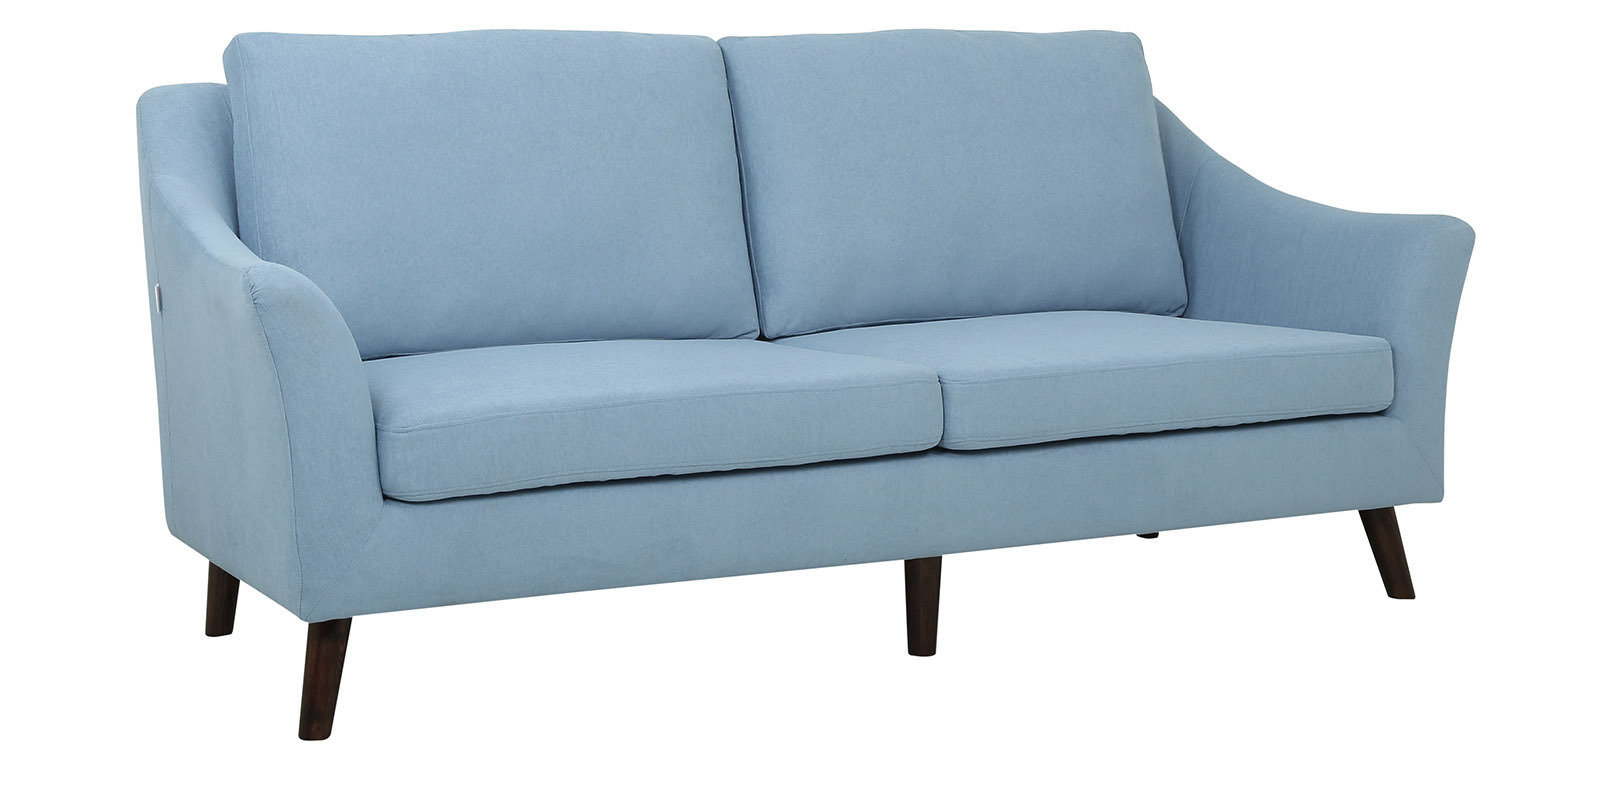Juan Three Seater Sofs in Ice Blue Colour by CasaCraft: (136, 26, 1477, 741)
